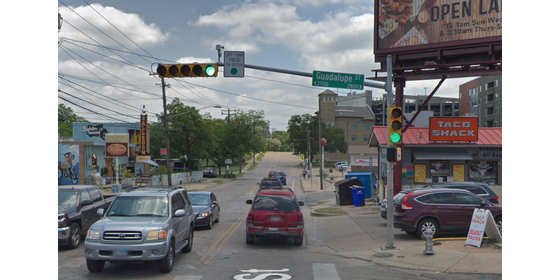left turn yield on green sign: (221, 47, 247, 81)
street name sign: (311, 66, 367, 93)
